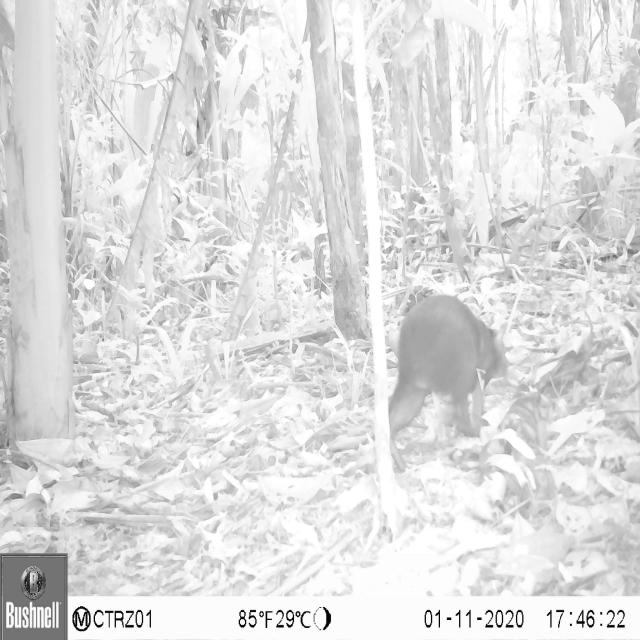Black Agouti: (375, 284, 515, 475)
